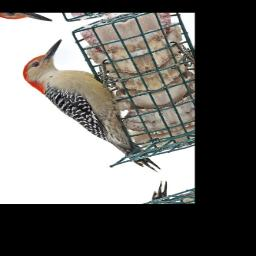Woodpecker: (11, 28, 163, 194)
